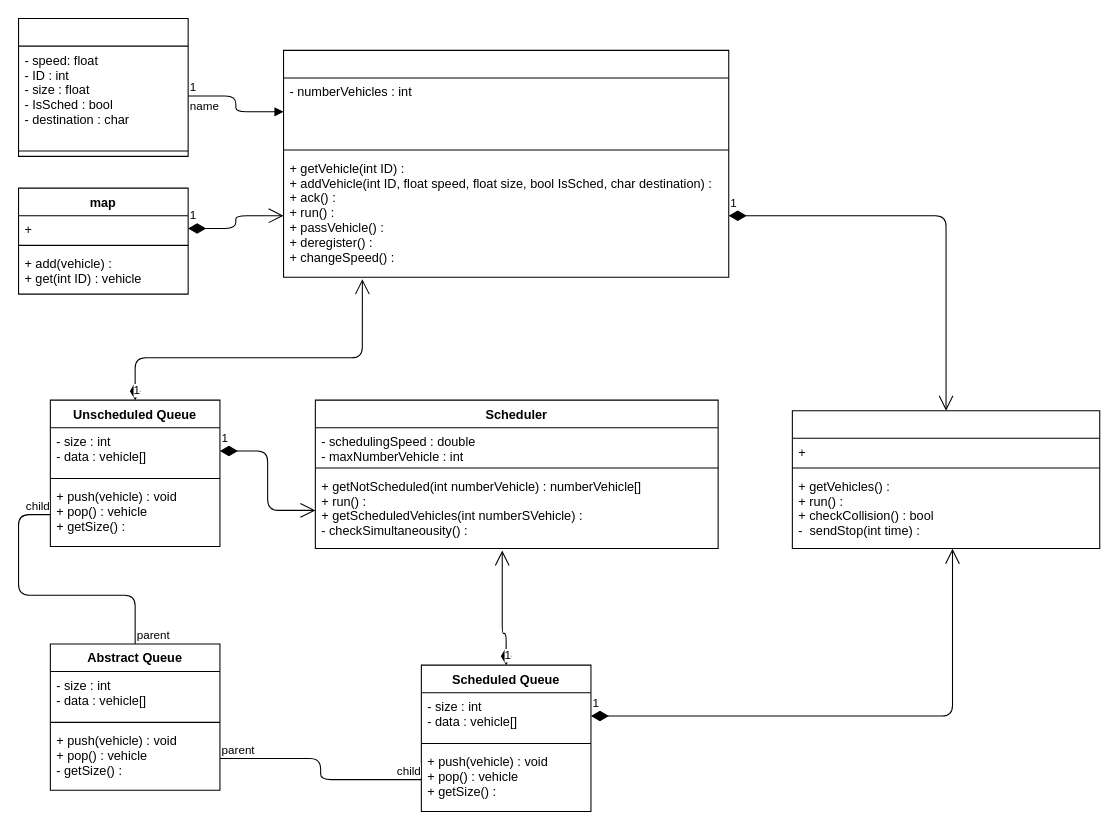
Some shapes in this 1118 by 833 pixel diagram are drawn without their labels. Here are the shapes that lost their labels. From the top down, the box of each, then its label:
(17, 17, 188, 156): Vehicle
(282, 49, 729, 277): Connection dispatcher
(791, 410, 1100, 549): TCT (traffic controller)
